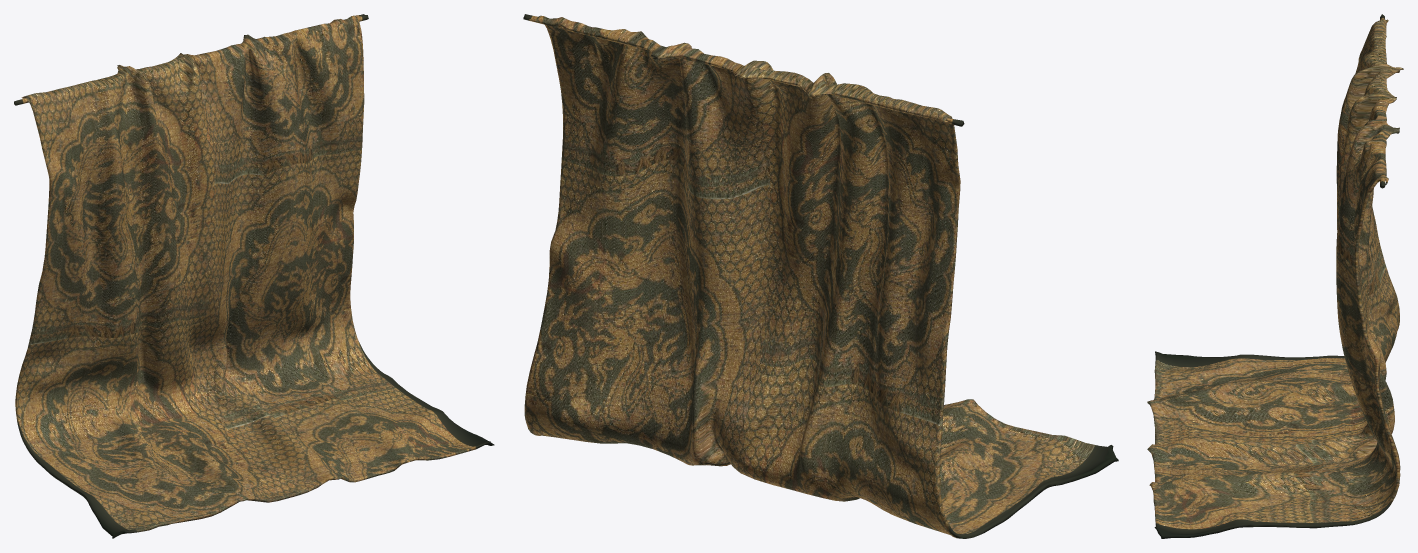
File: tuan-ke.glb
3 renders of one model, left to right at view 1: azimuth 30°, elevation 25°; view 2: azimuth 150°, elevation 25°; view 3: azimuth 270°, elevation 25°, orthographic. The views are drawn at different scales.
Parts seen in each view (by area): view 1: JinXu Textile Screen; view 2: JinXu Textile Screen; view 3: JinXu Textile Screen.
Boxes of the visible parts, <box> form: JinXu Textile Screen: <box>14,14,494,538</box>; JinXu Textile Screen: <box>523,14,1118,538</box>; JinXu Textile Screen: <box>1147,14,1403,538</box>.
Size of the model in its own units: 1 by 0.9044 by 0.5891.
Materials: 1 (1 with a texture image).
